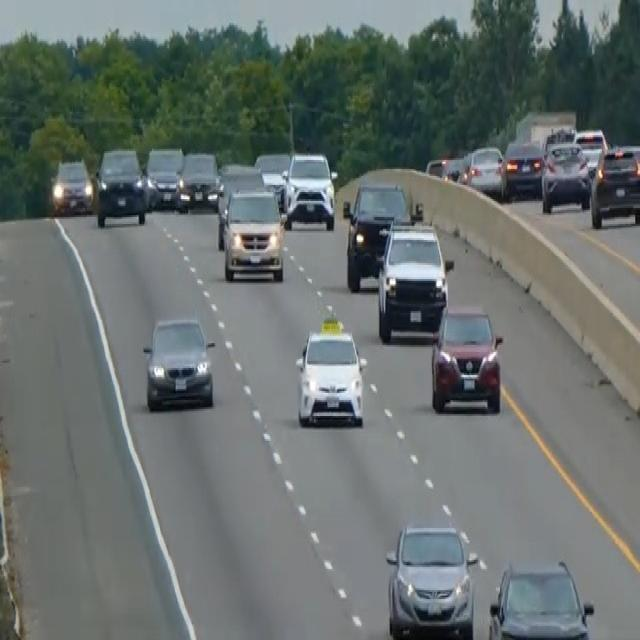car: (384, 519, 477, 638), (487, 556, 594, 638), (429, 302, 503, 414), (295, 313, 366, 428), (342, 180, 414, 292), (141, 313, 215, 411), (93, 146, 147, 228), (283, 149, 337, 231), (589, 142, 639, 228), (215, 162, 265, 247), (540, 139, 591, 213), (176, 149, 221, 210), (501, 137, 544, 199), (144, 144, 183, 210), (51, 157, 93, 215), (462, 144, 505, 197), (254, 150, 290, 212), (573, 126, 608, 176), (425, 153, 463, 183), (543, 123, 575, 153), (424, 154, 447, 180)
jeep: (373, 217, 452, 341)
minivan: (218, 181, 285, 283)
